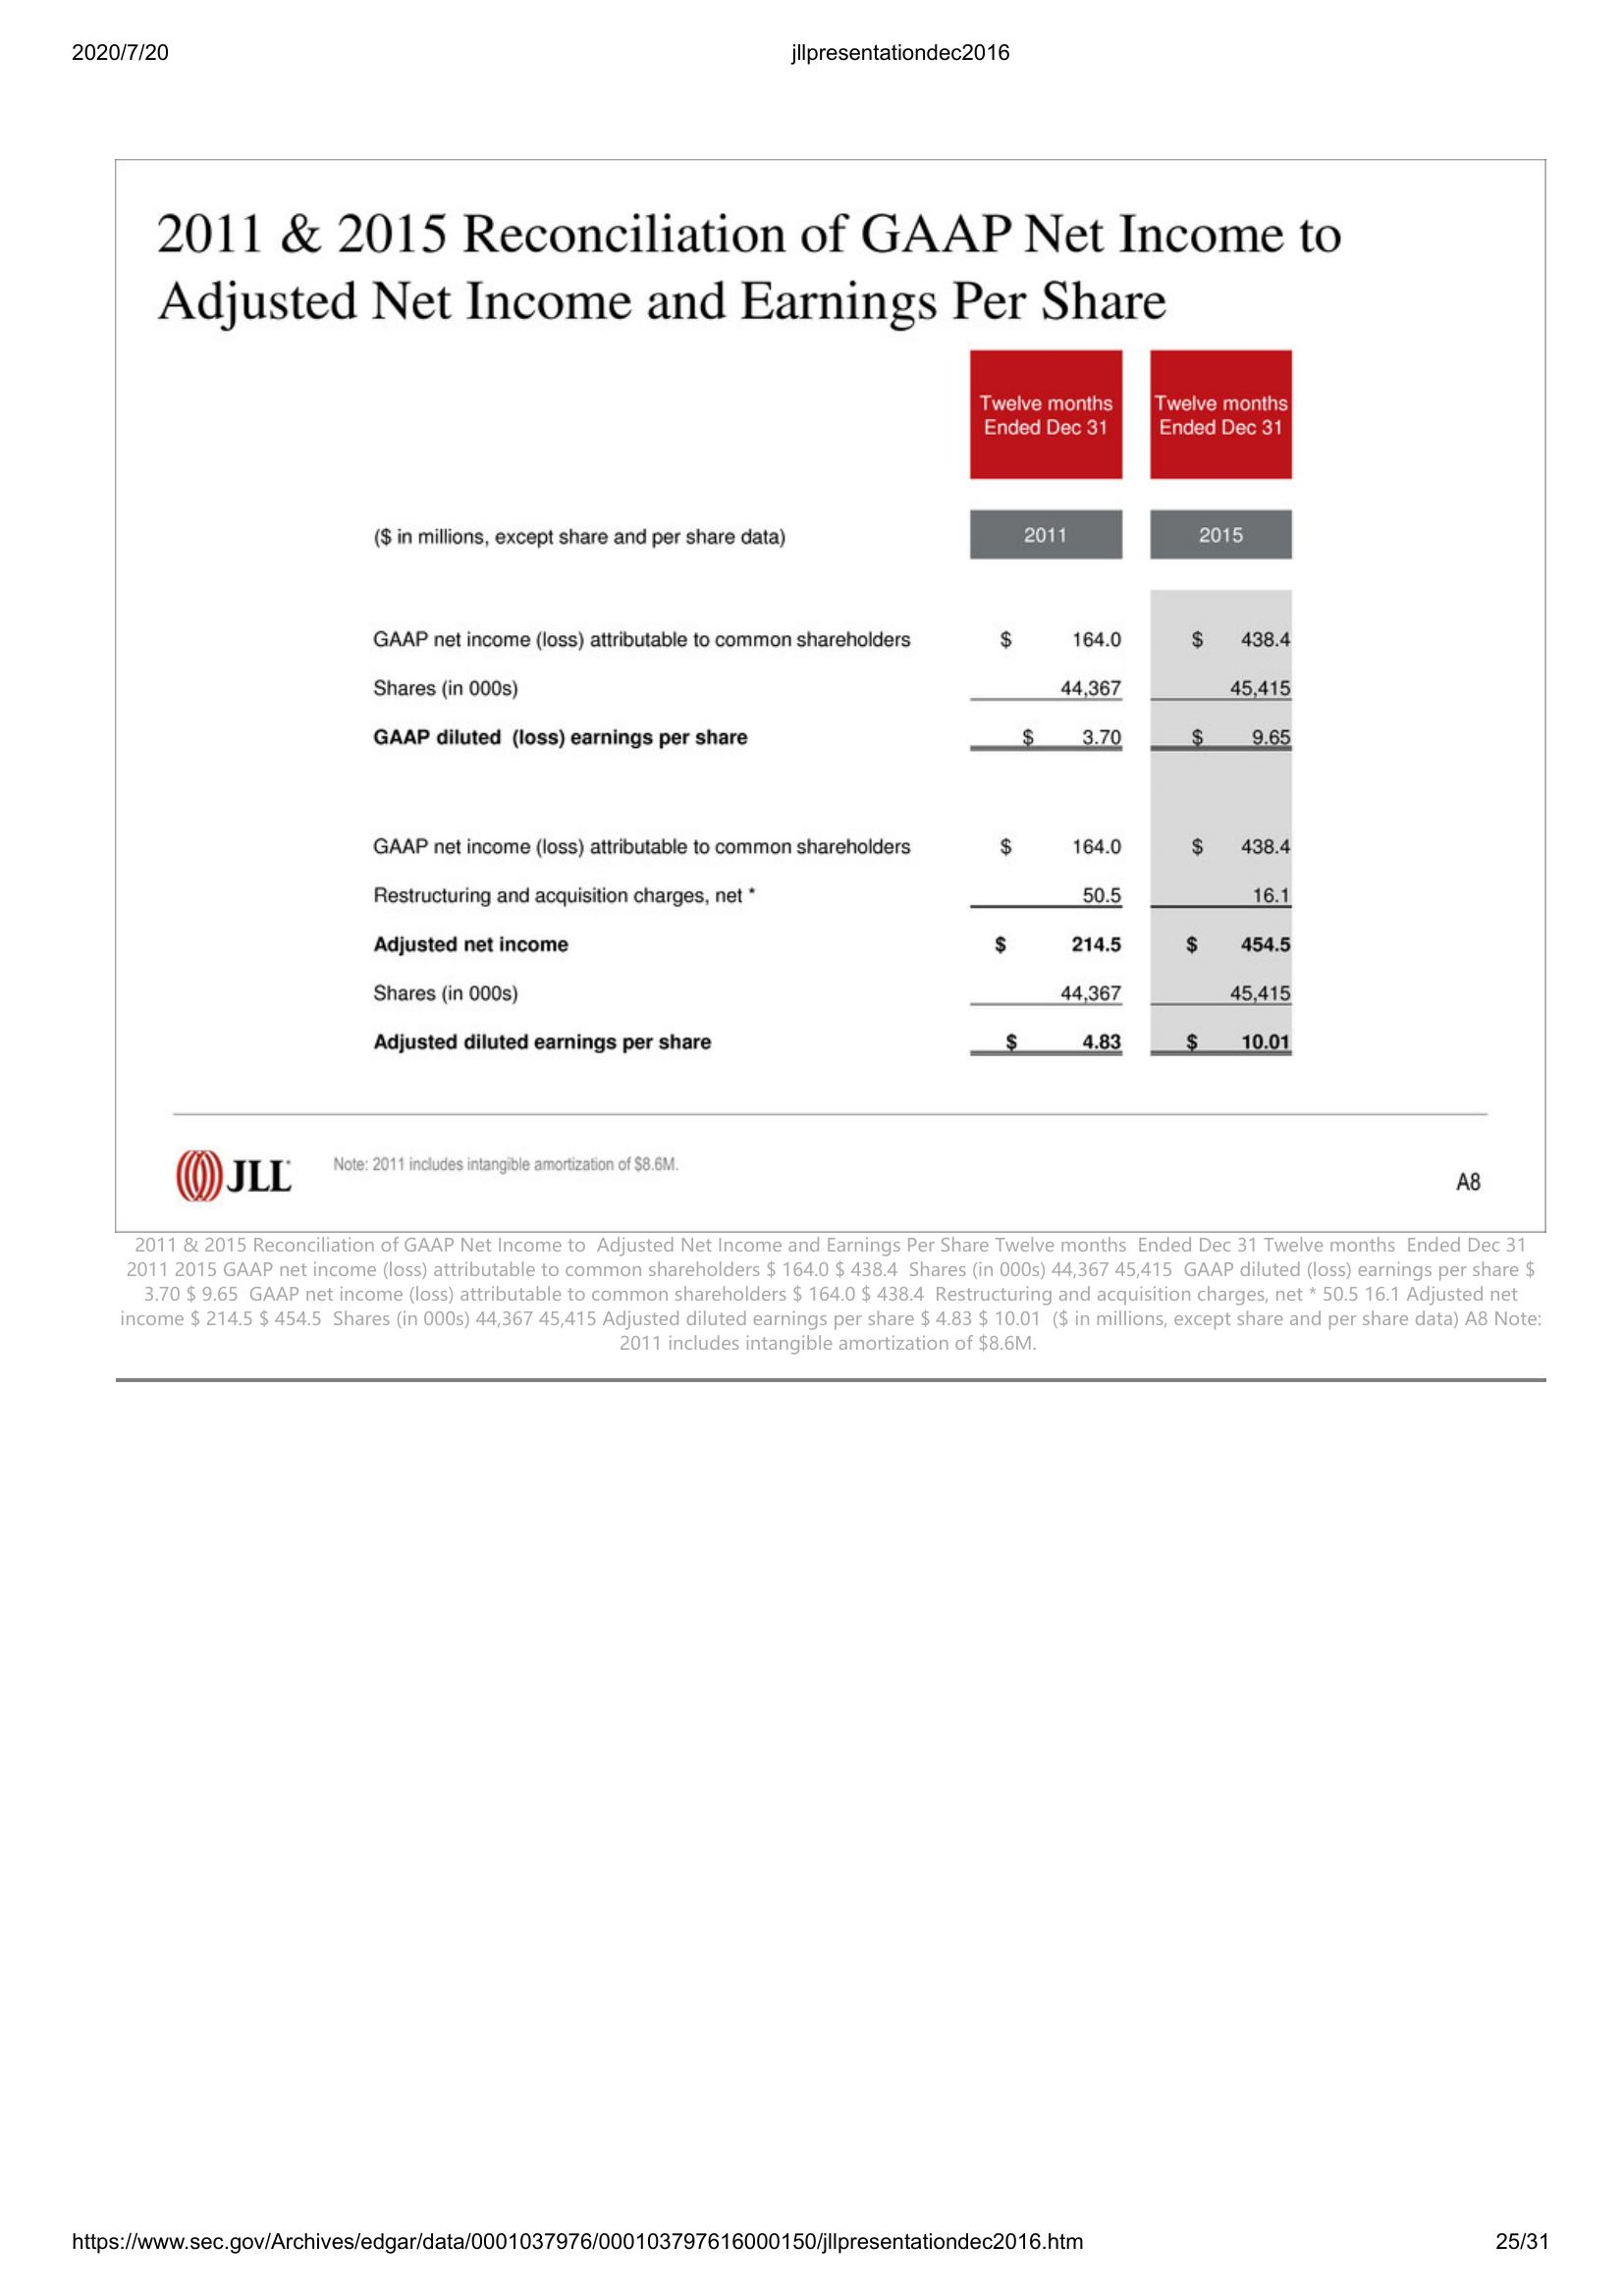table: (365, 344, 1309, 1065)
